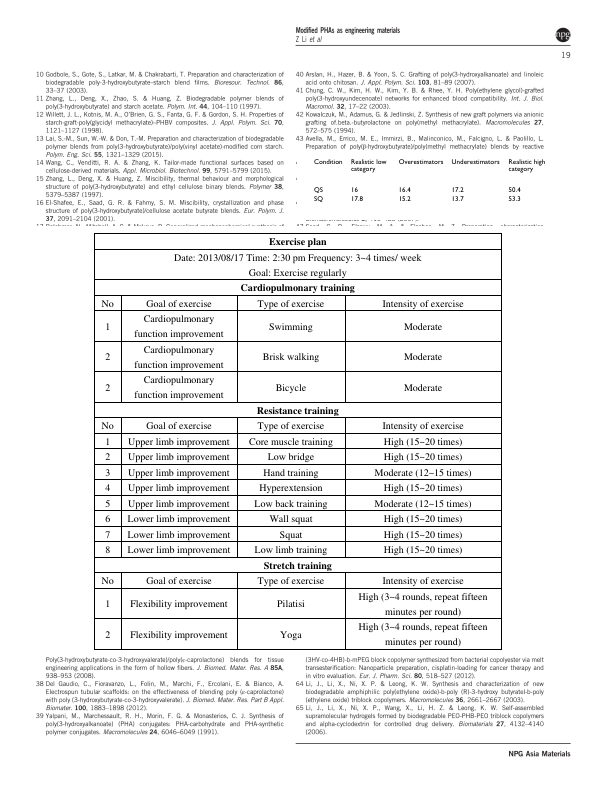bordered: (93, 231, 501, 649)
borderless: (308, 156, 548, 214)
cell: (172, 251, 422, 279), (357, 620, 488, 649), (357, 590, 488, 618), (133, 312, 224, 341), (133, 343, 224, 371), (133, 374, 224, 402), (239, 281, 355, 295), (126, 512, 231, 526), (126, 450, 230, 464), (126, 528, 231, 541), (126, 544, 231, 557), (126, 435, 230, 448), (126, 466, 230, 479), (126, 482, 230, 495), (126, 497, 230, 510), (373, 466, 472, 479), (373, 497, 472, 510), (129, 598, 228, 611), (129, 628, 228, 641), (381, 419, 464, 433), (382, 450, 463, 464), (382, 512, 463, 526), (247, 435, 333, 448), (255, 404, 339, 417), (381, 297, 464, 310), (381, 575, 464, 588), (382, 435, 463, 448), (382, 482, 463, 495), (382, 528, 463, 541), (382, 544, 463, 557), (253, 497, 328, 510), (253, 544, 328, 557), (256, 419, 325, 433), (145, 419, 212, 433), (262, 559, 332, 572), (256, 297, 325, 310), (256, 575, 325, 588), (145, 297, 212, 310), (145, 575, 212, 588), (258, 482, 323, 495), (267, 235, 327, 249), (261, 350, 320, 364), (262, 466, 319, 479), (266, 450, 315, 464), (268, 512, 313, 526), (507, 158, 546, 174), (349, 158, 387, 174), (267, 320, 313, 333), (402, 350, 443, 364), (402, 320, 443, 333), (402, 381, 443, 394), (450, 158, 500, 167), (274, 381, 307, 394), (397, 158, 444, 167), (275, 598, 305, 611), (278, 528, 303, 541), (278, 628, 302, 641), (313, 158, 343, 167), (100, 419, 114, 433), (100, 297, 114, 310), (100, 575, 114, 588), (397, 186, 411, 195), (450, 186, 464, 195), (507, 186, 521, 195), (349, 195, 363, 204), (397, 195, 411, 204), (450, 195, 464, 204), (507, 195, 521, 204), (104, 350, 111, 364), (104, 450, 111, 464), (104, 512, 111, 526), (104, 320, 111, 333), (104, 381, 111, 394), (104, 435, 111, 448), (104, 466, 111, 479), (104, 482, 111, 495), (104, 497, 111, 510), (104, 528, 111, 541), (104, 544, 111, 557), (104, 598, 111, 611), (104, 628, 111, 641), (313, 186, 323, 195), (313, 195, 323, 204), (349, 186, 358, 195)
